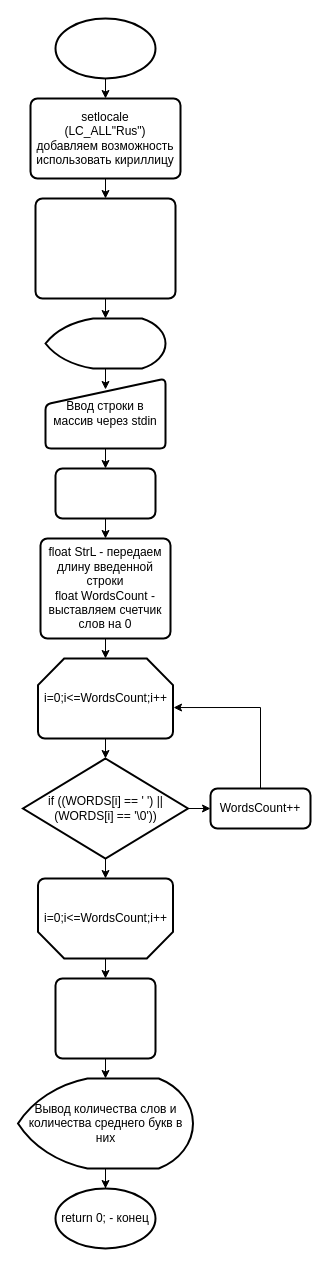
The diagram is 329 pixels wide and 1266 high, and some of its shapes have lost their labels. The box of each missing label's shape, as (x1, y1, x2, y2) in pixels:
char WORDS - массив под символы (до 99) int i - переменная-счетчик для цикла: (34, 197, 176, 299)
float CharCount - вычисляем среднее число символов в слове: (54, 977, 156, 1059)
Введите строку...: (44, 317, 166, 369)
Начало: (54, 17, 156, 79)
Очистка stdin: (54, 467, 156, 519)
